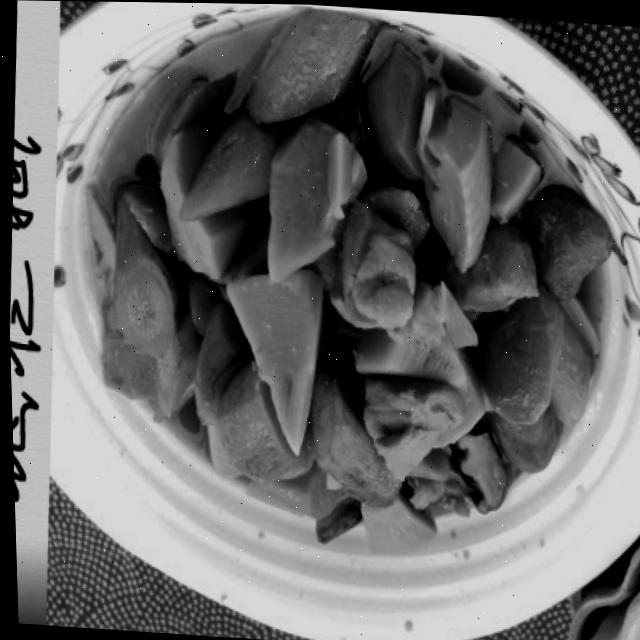鸡肉料理 含炸鸡: (58, 1, 630, 602)
